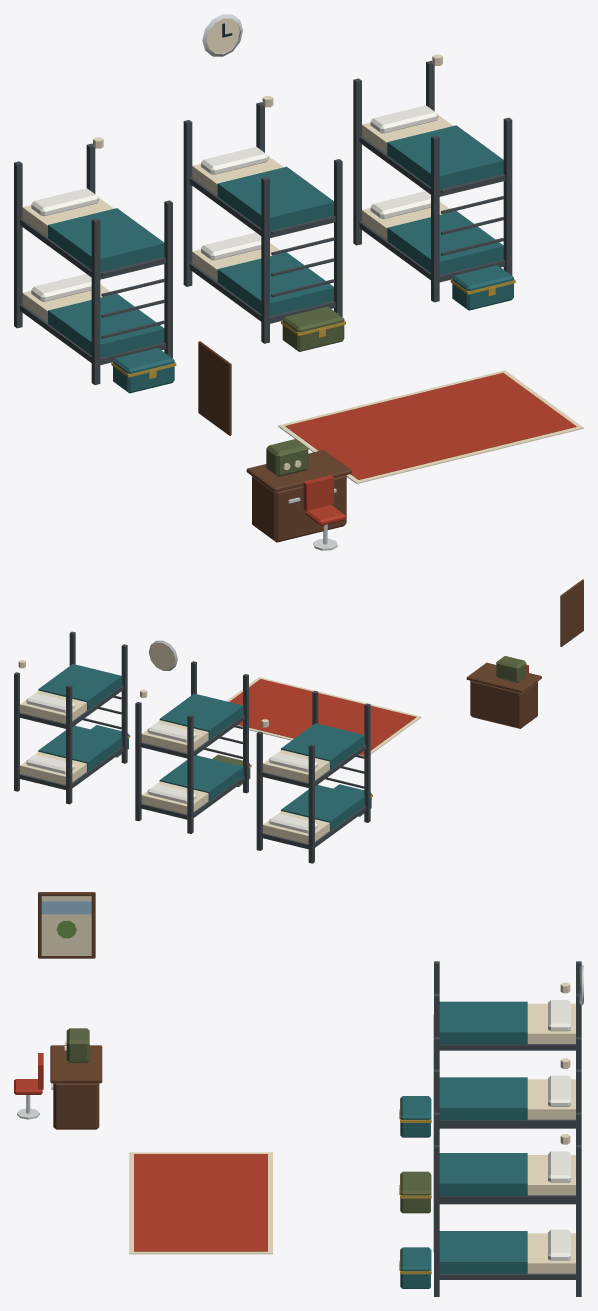
The model's file is Room_Quarters_L2.fbx.
The picture shows the model from 3 angles, top to bottom: view 1: azimuth 30°, elevation 25°; view 2: azimuth 150°, elevation 25°; view 3: azimuth 270°, elevation 25°; orthographic projection. The views are drawn at different scales.
Parts seen in each view (by area): view 1: Decor, Desk1, Footlocker2, Footlocker1, Footlocker3, Bunk3, Bunk5, Bunk1, Bunk4, Bunk6, Bunk2; view 2: Decor, Desk1, Bunk3, Bunk4, Bunk1, Bunk2, Bunk6, Bunk5; view 3: Decor, Desk1, Footlocker2, Footlocker3, Footlocker1, Bunk4, Bunk2, Bunk6, Bunk5.
Part boxes in pixels (x1=…): Decor: x1=14, y1=14, x2=583, y2=550; Desk1: x1=252, y1=475, x2=346, y2=542; Footlocker2: x1=282, y1=306, x2=344, y2=351; Footlocker1: x1=113, y1=348, x2=174, y2=393; Footlocker3: x1=452, y1=265, x2=513, y2=310; Bunk3: x1=189, y1=263, x2=335, y2=323; Bunk5: x1=359, y1=221, x2=505, y2=282; Bunk1: x1=20, y1=304, x2=165, y2=365; Bunk4: x1=189, y1=177, x2=335, y2=238; Bunk6: x1=359, y1=136, x2=505, y2=196; Bunk2: x1=20, y1=218, x2=165, y2=279; Decor: x1=14, y1=579, x2=583, y2=863; Desk1: x1=470, y1=680, x2=537, y2=728; Bunk3: x1=140, y1=776, x2=244, y2=819; Bunk4: x1=140, y1=715, x2=244, y2=758; Bunk1: x1=261, y1=806, x2=366, y2=849; Bunk2: x1=261, y1=744, x2=366, y2=787; Bunk6: x1=19, y1=685, x2=123, y2=728; Bunk5: x1=19, y1=746, x2=123, y2=789; Decor: x1=14, y1=892, x2=583, y2=1296; Desk1: x1=53, y1=1083, x2=99, y2=1129; Footlocker2: x1=400, y1=1171, x2=430, y2=1213; Footlocker3: x1=400, y1=1247, x2=430, y2=1288; Footlocker1: x1=400, y1=1096, x2=430, y2=1137; Bunk4: x1=439, y1=1119, x2=575, y2=1126; Bunk2: x1=439, y1=1044, x2=575, y2=1050; Bunk6: x1=439, y1=1195, x2=575, y2=1201; Bunk5: x1=439, y1=1273, x2=575, y2=1279.
Bounding box in the file's own units: 27.55 × 13.72 × 29.72.
